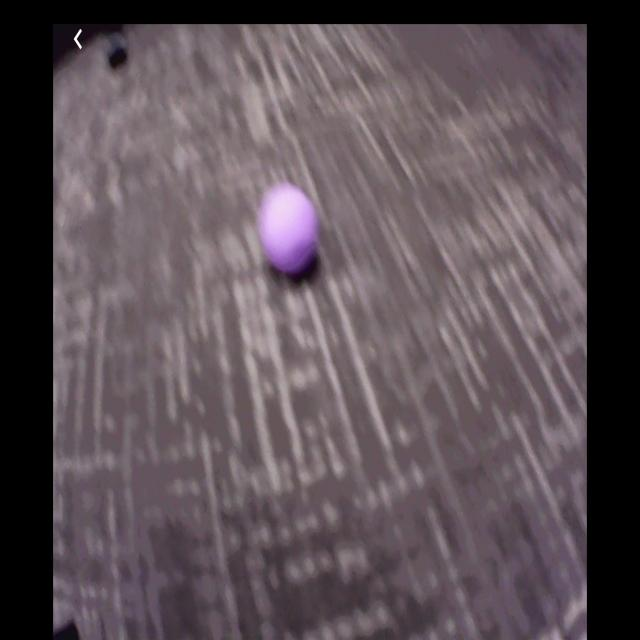ball: (262, 182, 316, 272)
